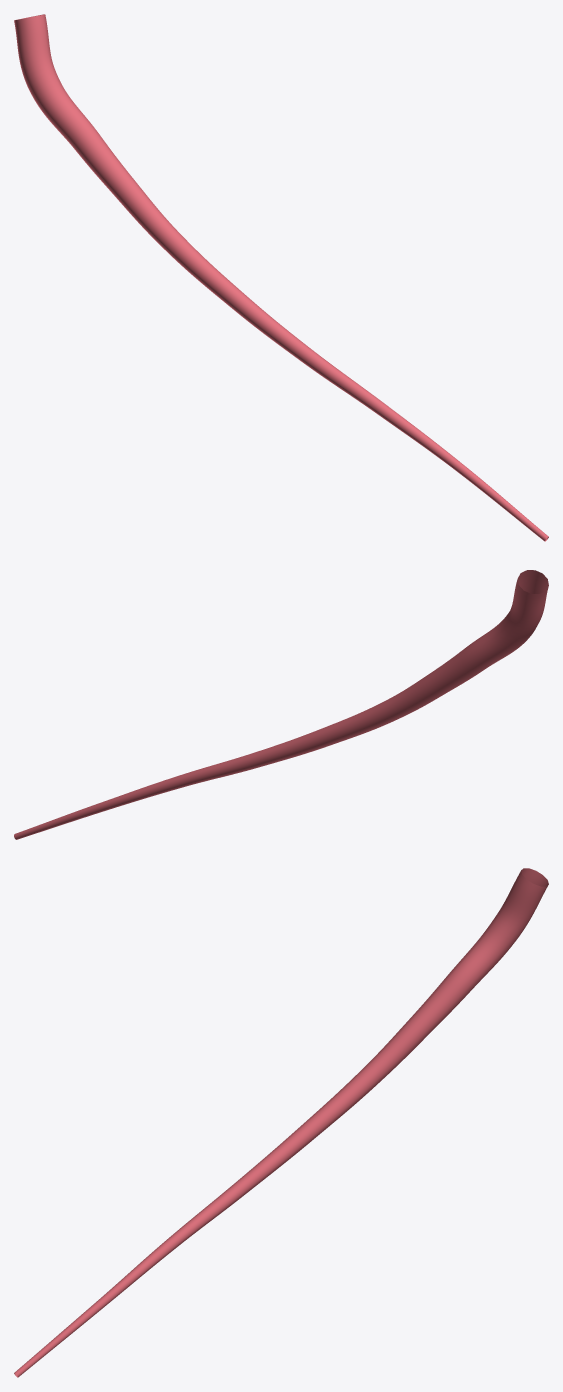
The picture shows the model from 3 angles, top to bottom: view 1: azimuth 30°, elevation 25°; view 2: azimuth 210°, elevation 25°; view 3: azimuth 270°, elevation 25°; orthographic projection. The views are drawn at different scales.
Parts seen in each view (by area): view 1: ZA_962caaa20b89ee12; view 2: ZA_962caaa20b89ee12; view 3: ZA_962caaa20b89ee12.
Part boxes in pixels (x1,y1,x2,y2): ZA_962caaa20b89ee12: [14, 14, 548, 541]; ZA_962caaa20b89ee12: [14, 570, 548, 839]; ZA_962caaa20b89ee12: [14, 868, 548, 1377].
Bounding box in the file's own units: 0.0097 × 0.0136 × 0.0171.
